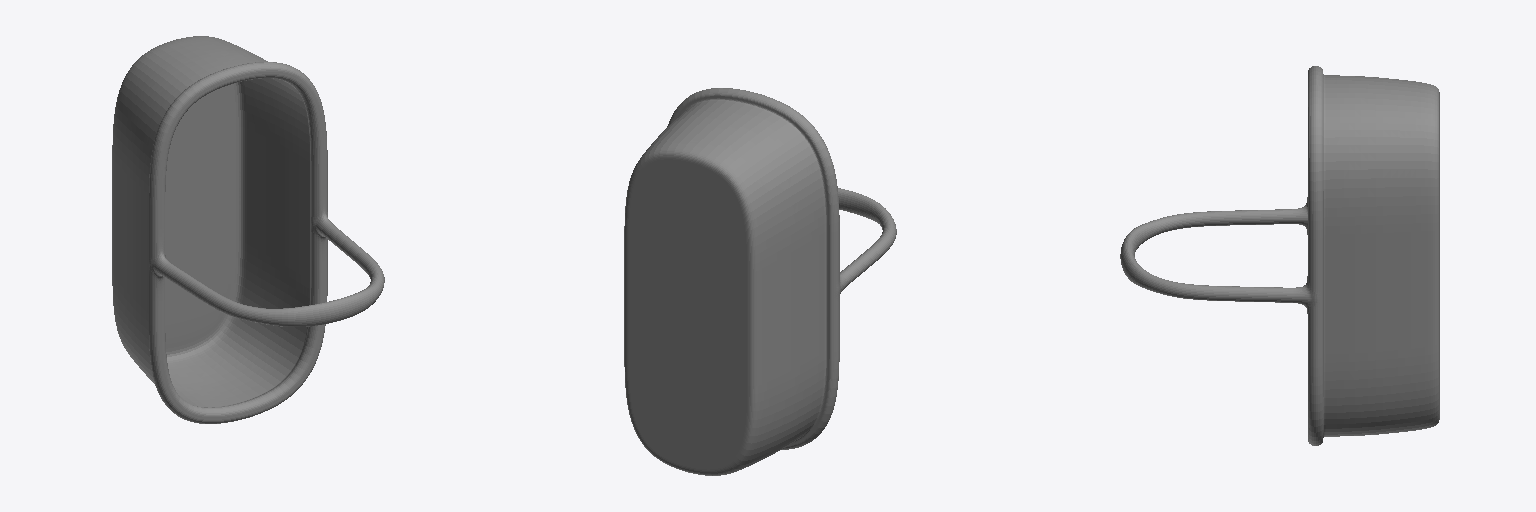
Rendered from osier.obj.
3 views of the same model, side by side, from view 1: azimuth 30°, elevation 25°; view 2: azimuth 150°, elevation 25°; view 3: azimuth 270°, elevation 25° (orthographic).
Visible parts, largest first — view 1: 10431_Wicker_Basket_v1; view 2: 10431_Wicker_Basket_v1; view 3: 10431_Wicker_Basket_v1.
Boxes of the visible parts, x1,y1,x2,y2 form: 10431_Wicker_Basket_v1: [112, 36, 384, 423]; 10431_Wicker_Basket_v1: [624, 88, 896, 475]; 10431_Wicker_Basket_v1: [1120, 66, 1439, 445].
Size of the model in its own units: 28.82 by 54.82 by 44.89.